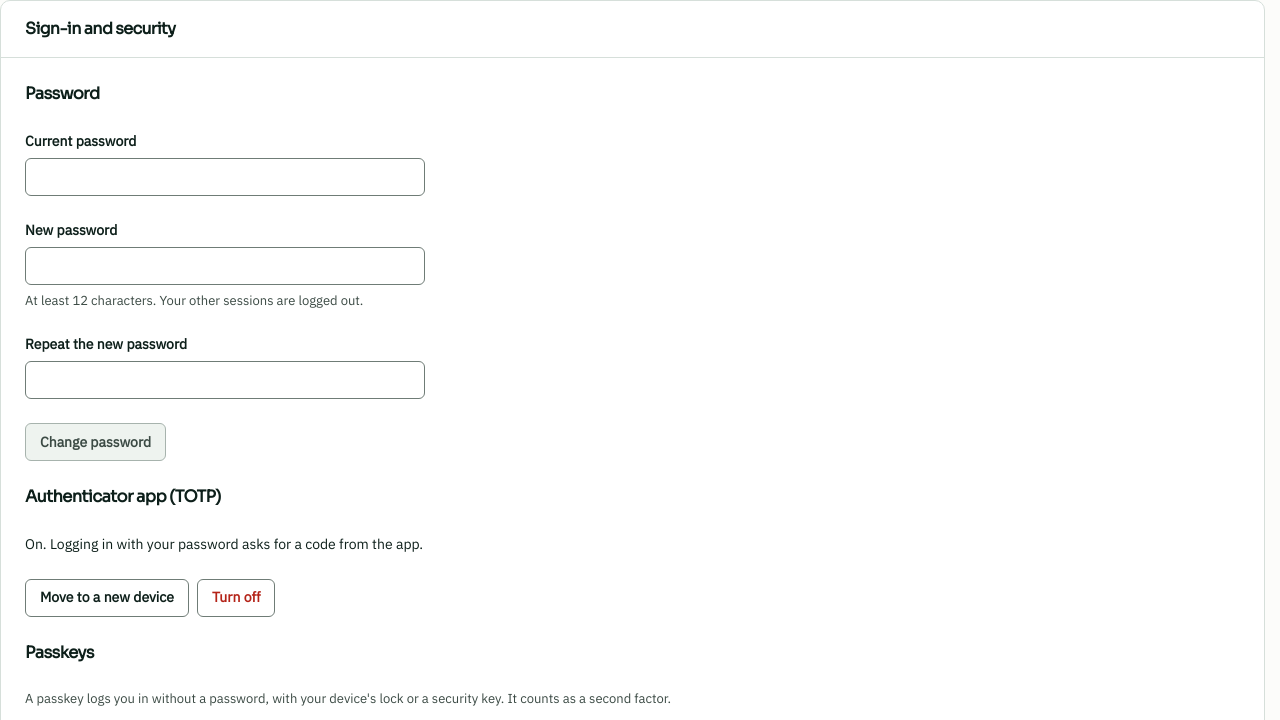
Test: SecurityCard › changes the password
Type "old password 123" into the password field labelled "Current password" at [225, 177], box left=25, top=158, right=425, bottom=196
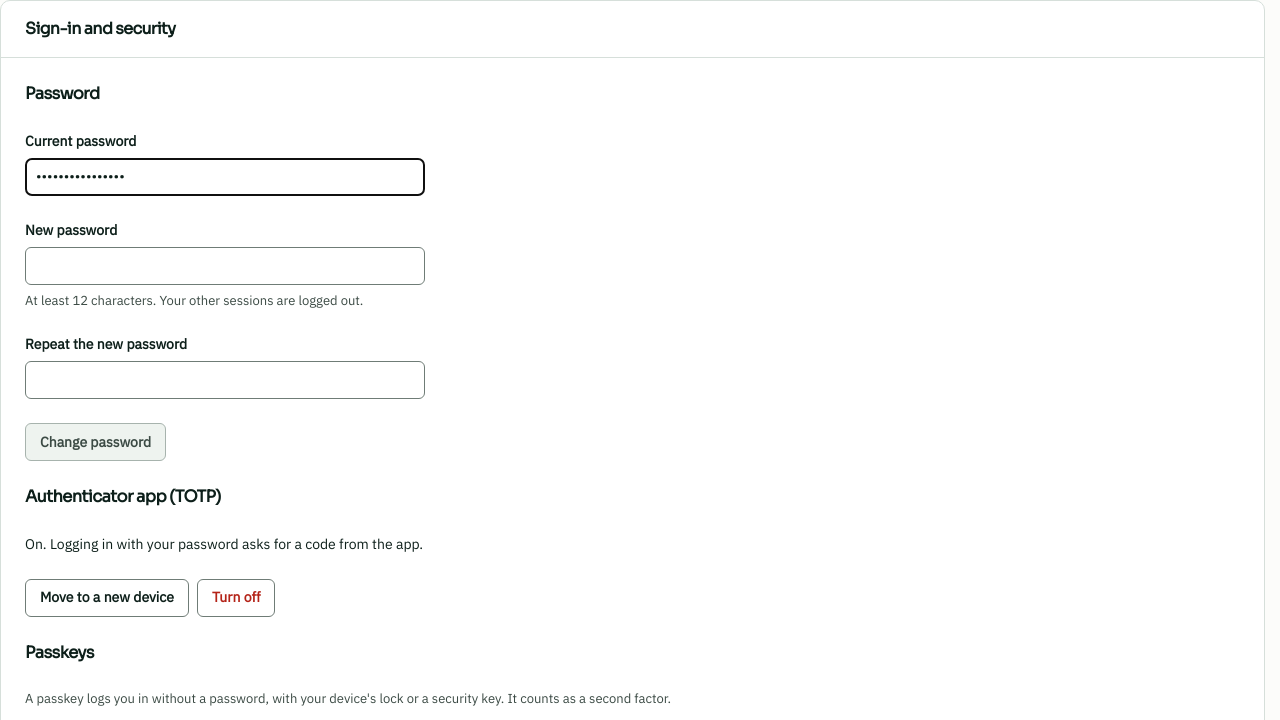
Type "a new long passphrase" into the password field labelled "New password" at [225, 266], box left=25, top=247, right=425, bottom=285
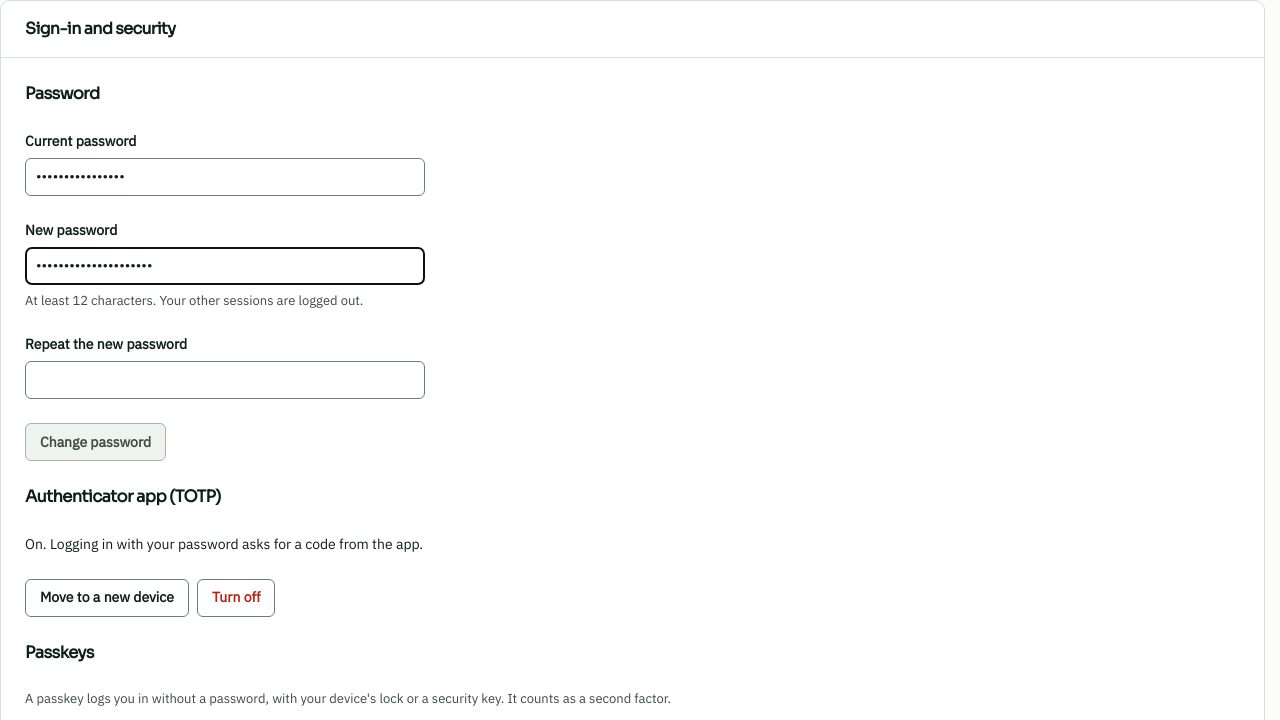
Type "a new long passphrase" into the password field labelled "Repeat the new password" at [225, 380], box left=25, top=361, right=425, bottom=399
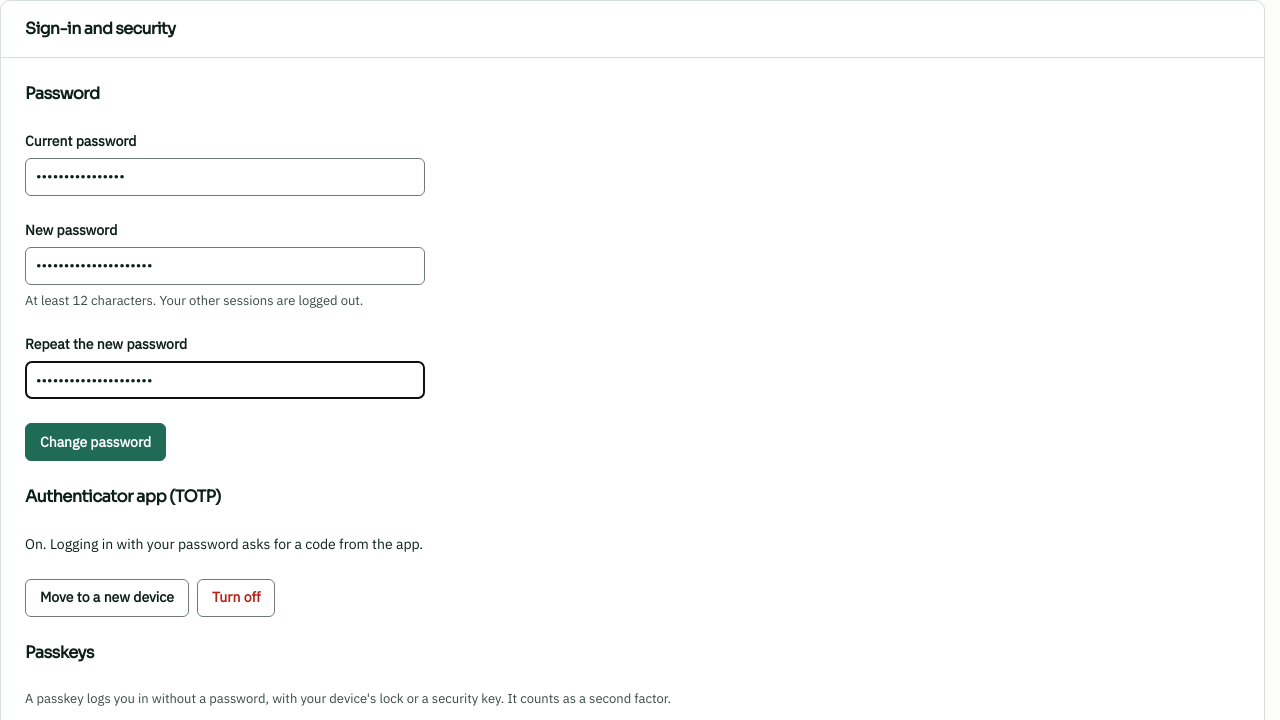
Click the button "Change password" at [96, 442], box left=25, top=423, right=166, bottom=461
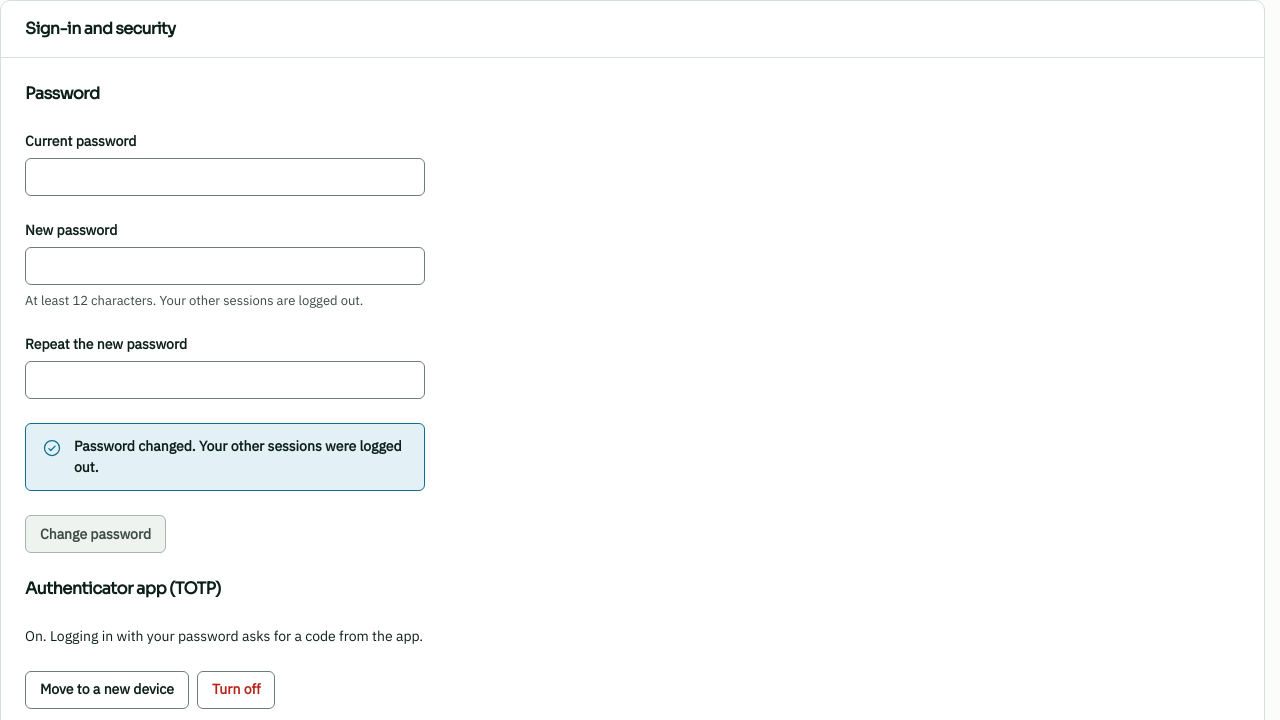
Check: the text "Password changed. Your other sessions were logged out." is shown, box left=74, top=436, right=408, bottom=478
Check: the password field labelled "Current password" is empty, box left=25, top=158, right=425, bottom=196
